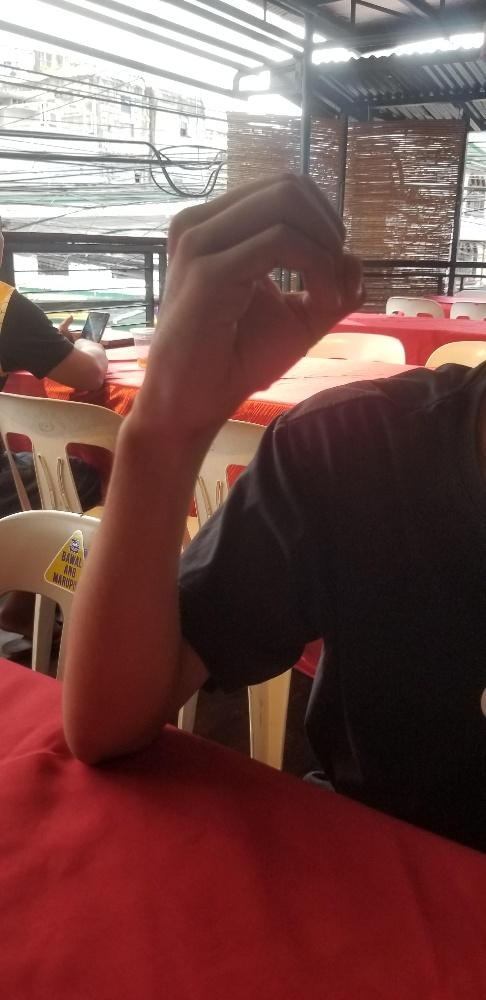o: (133, 165, 366, 433)
